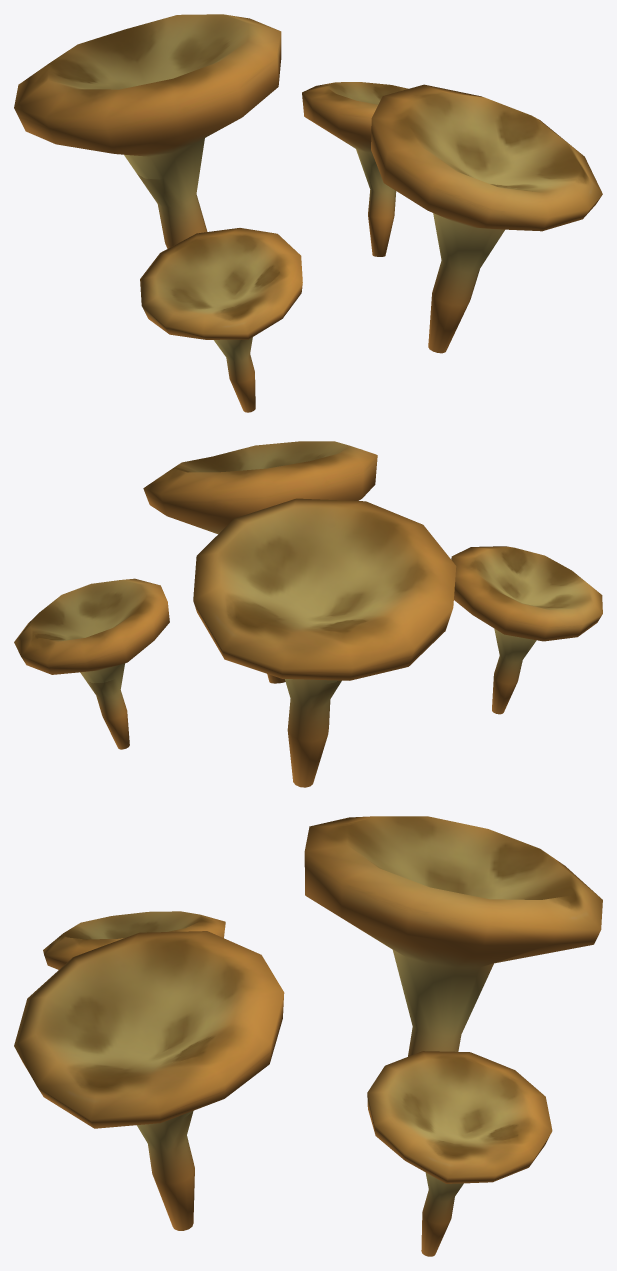
File: 0_B_Mushroom.fbx
3 renders of one model, top to bottom at view 1: azimuth 30°, elevation 25°; view 2: azimuth 150°, elevation 25°; view 3: azimuth 270°, elevation 25°, orthographic. The views are drawn at different scales.
Parts seen in each view (by area): view 1: Cylinder.012; view 2: Cylinder.012; view 3: Cylinder.012.
Boxes of the visible parts, x1=… form: Cylinder.012: x1=14, y1=14, x2=602, y2=412; Cylinder.012: x1=14, y1=441, x2=602, y2=787; Cylinder.012: x1=14, y1=816, x2=602, y2=1256.
Size of the model in its own units: 285 by 164 by 289.
